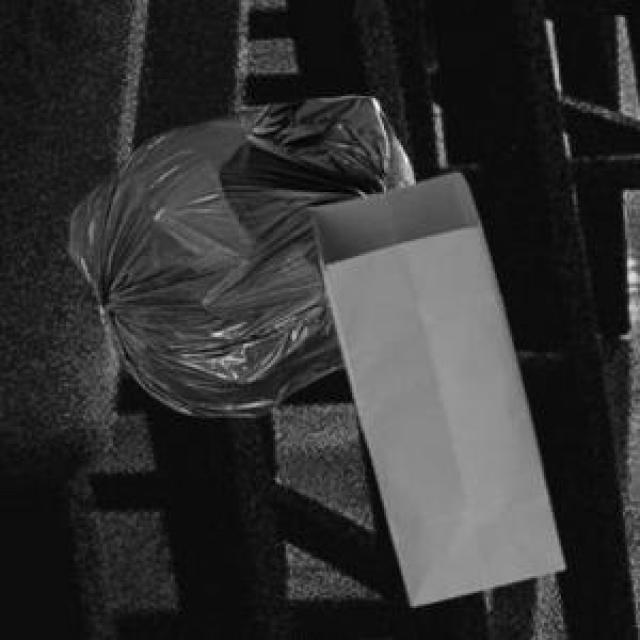miscellaneous trash: (66, 92, 410, 412)
paper: (309, 169, 561, 602)
